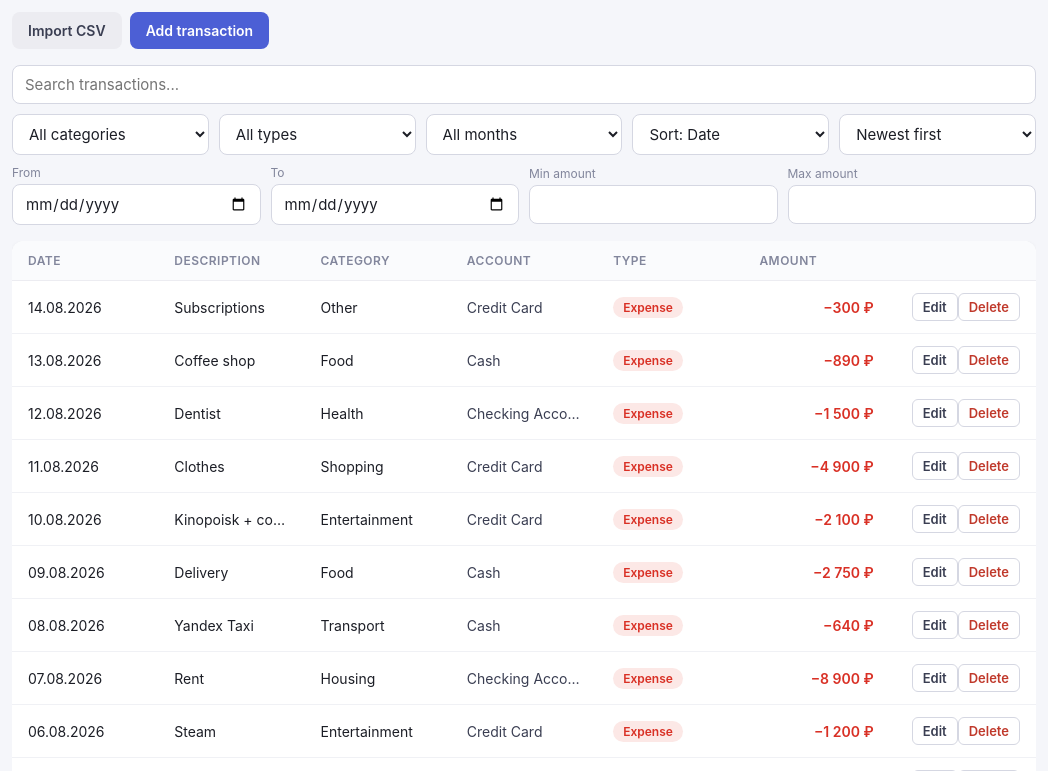
Test case: transactions page › restores a deleted transaction through the undo toast
Click the button "Delete" in the row of "14.08.2026": click(989, 307) top-left (958, 293), bottom-right (1020, 321)
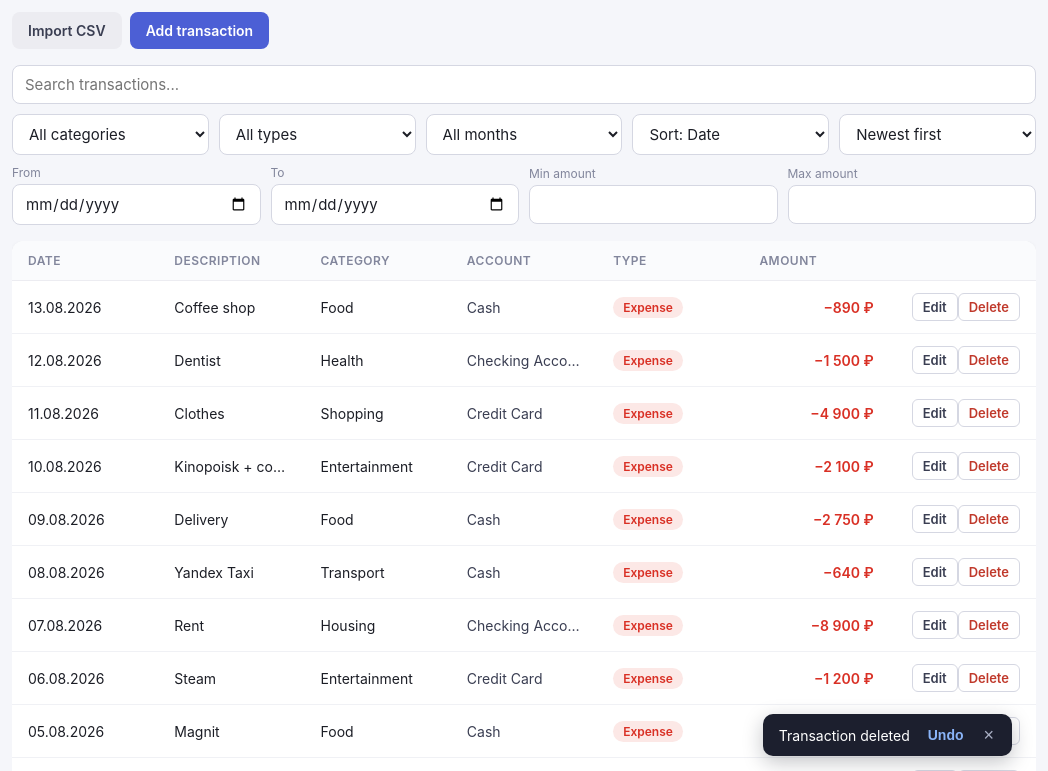
Check: the message shows "Transaction deleted", box top-left (779, 726), bottom-right (910, 744)
Click the button "Undo": click(946, 735) top-left (922, 726), bottom-right (970, 744)
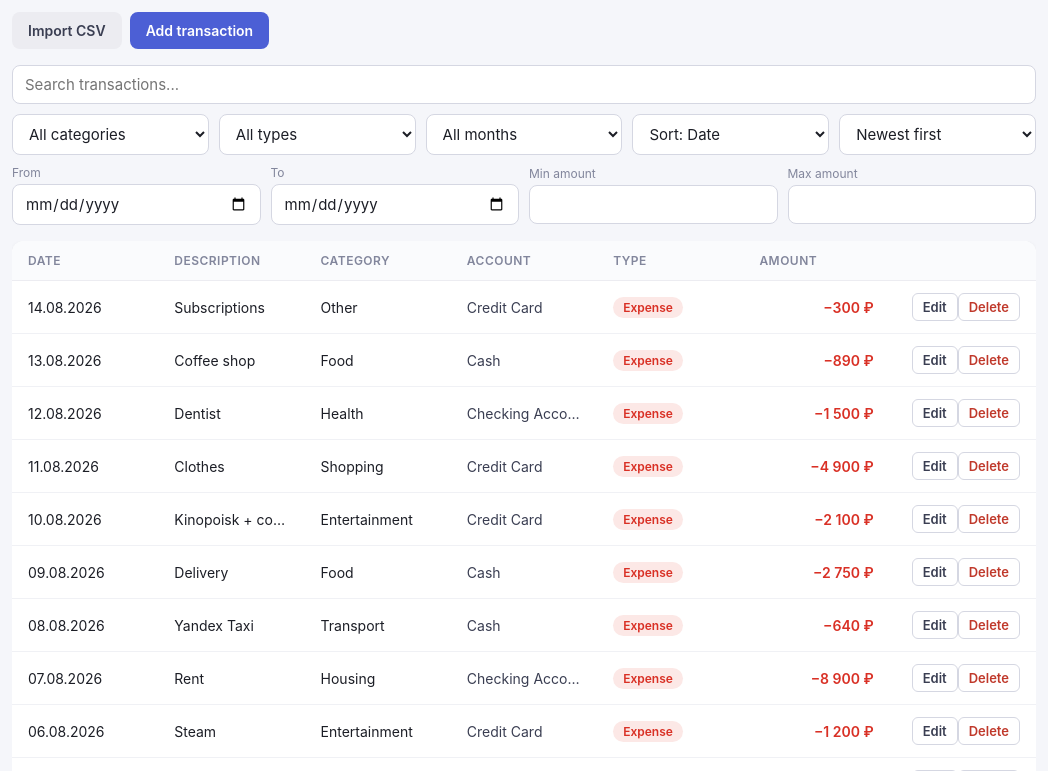
Check: the message "Transaction deleted Undo ×" is gone
